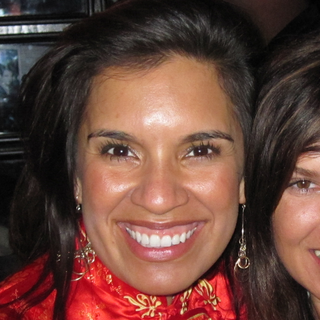eye: (95, 139, 141, 164), (178, 140, 225, 164)
